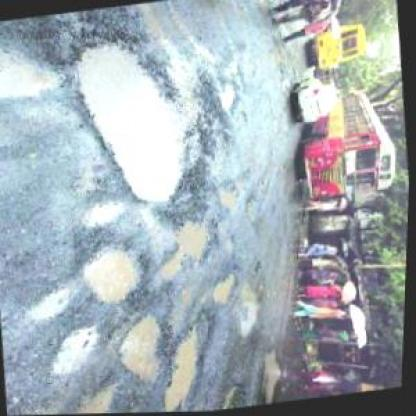pothole: (68, 29, 202, 215), (154, 310, 227, 412), (154, 214, 222, 282), (0, 43, 71, 107), (83, 241, 150, 305), (115, 312, 173, 384), (44, 320, 111, 377), (24, 282, 84, 324), (62, 380, 126, 413), (235, 282, 270, 340), (80, 197, 130, 230), (208, 270, 245, 310), (218, 176, 251, 209), (218, 82, 238, 116)
